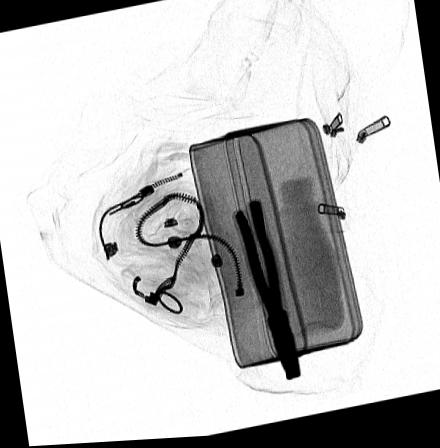Pliers: (231, 201, 301, 385)
